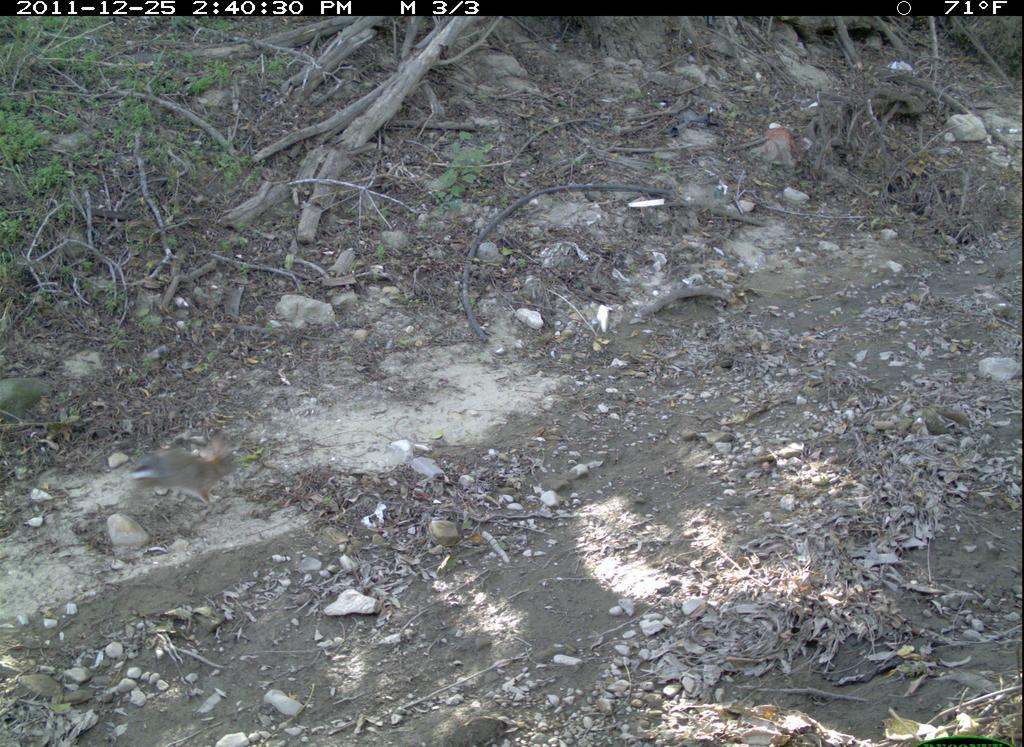rabbit: (120, 425, 258, 527)
